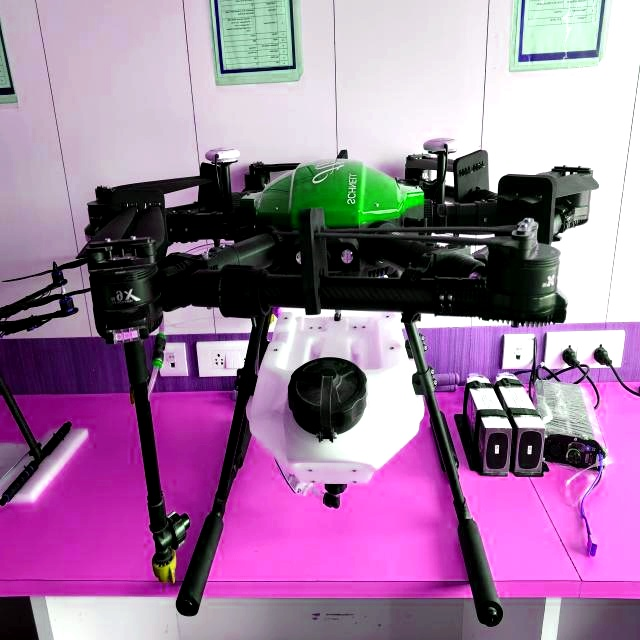agriculturedrone: (60, 136, 598, 631)
